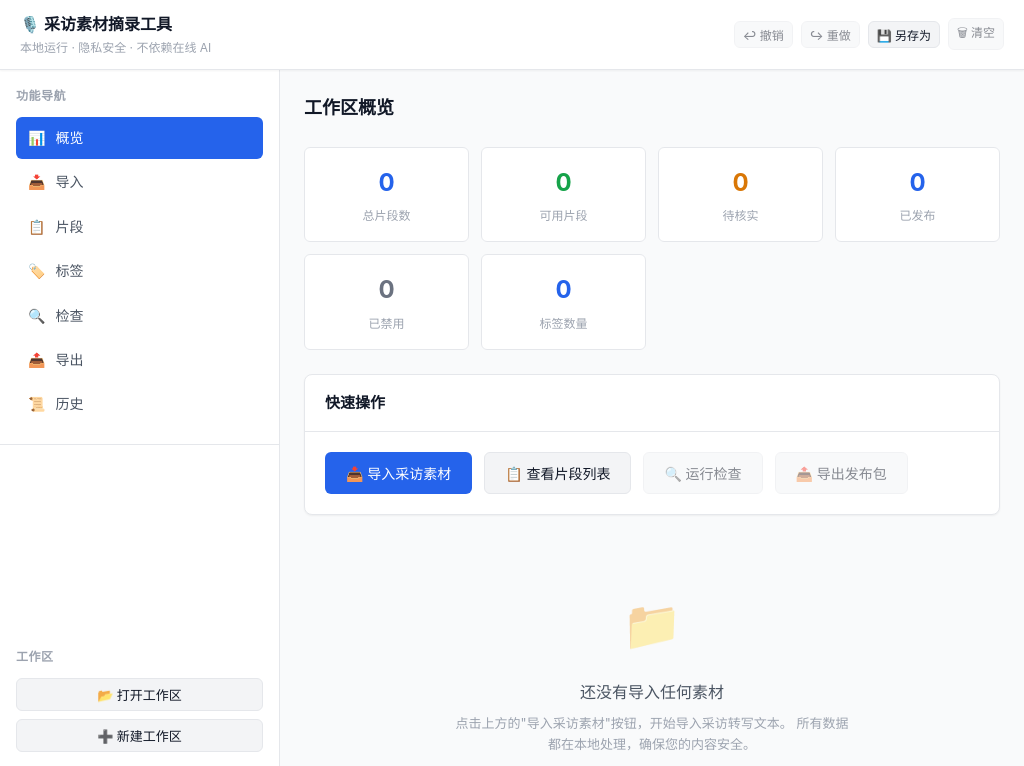
it: 未保存改动确认弹窗 - 组件渲染验证 › 5. 选择"先另存"且保存成功后继续加载
Click the text "导入".
click(70, 183)  # box [56,171,84,194]
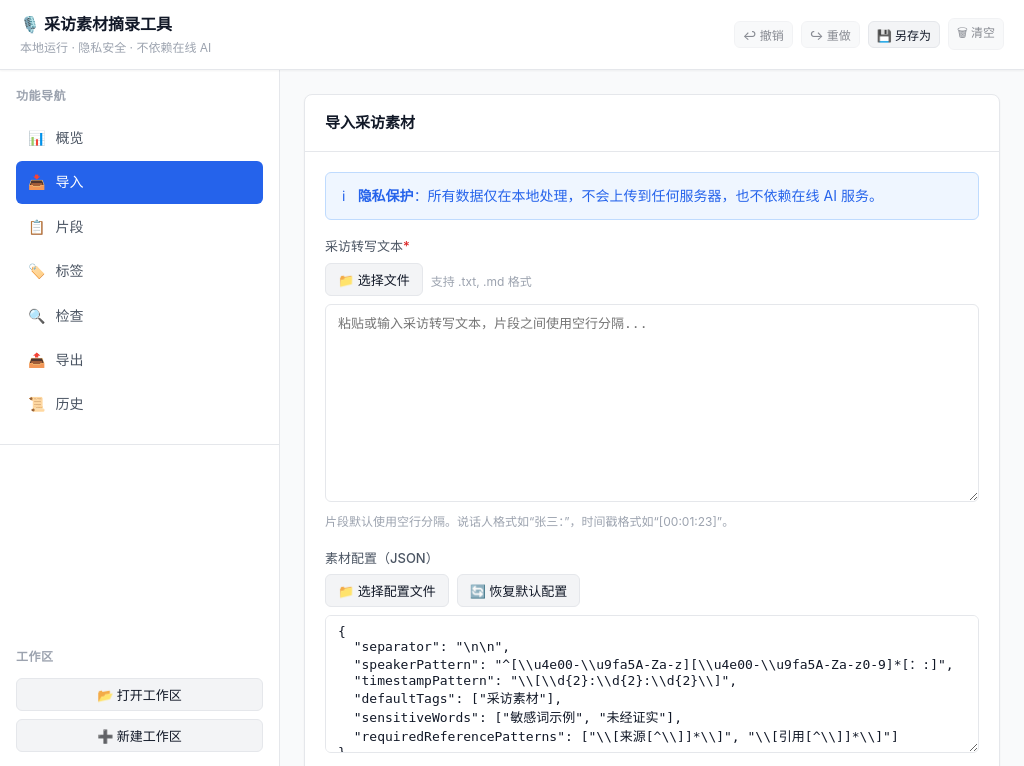
Type "张三：今天我们来谈谈这个项目。 李四：好的，这个项目非常重要。 王五：我认为我们需要更多时间。 " into the text box with placeholder "粘贴或输入采访转写文本，片段之间使用空行分隔...".
click(652, 403); type("张三：今天我们来谈谈这个项目。 李四：好的，这个项目非常重要。 王五：我认为我们需要更多时间。 ")  # box [325,304,979,502]
(page scrolled)
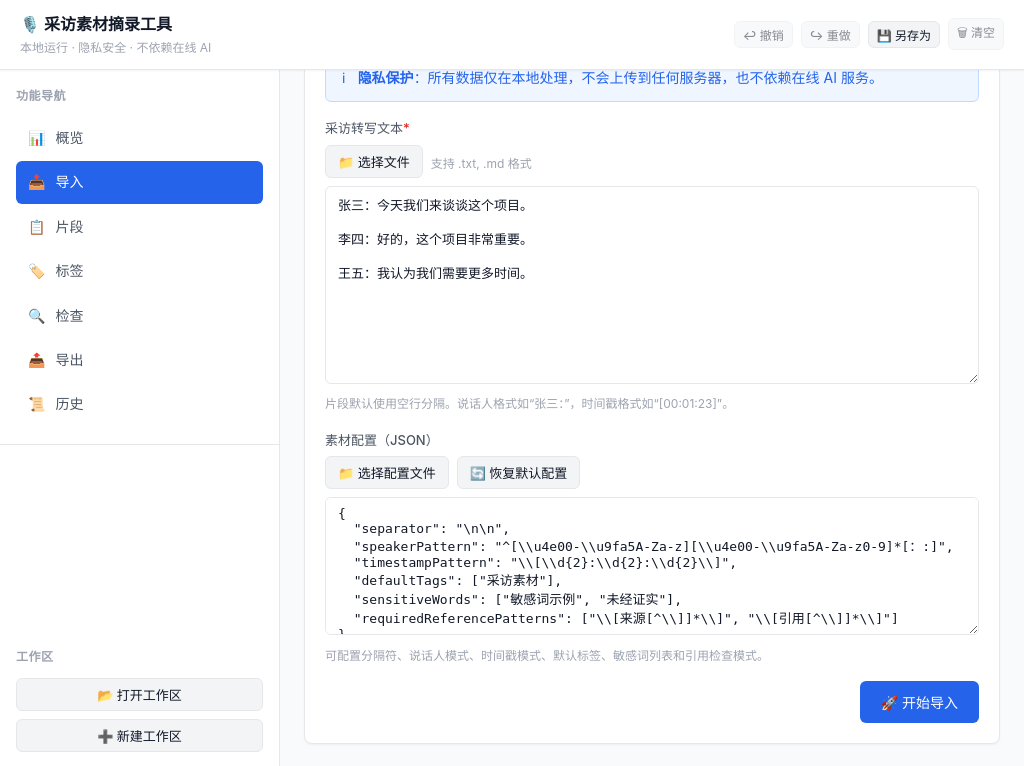
Click the button "🚀 开始导入".
click(919, 702)  # box [860,681,979,723]
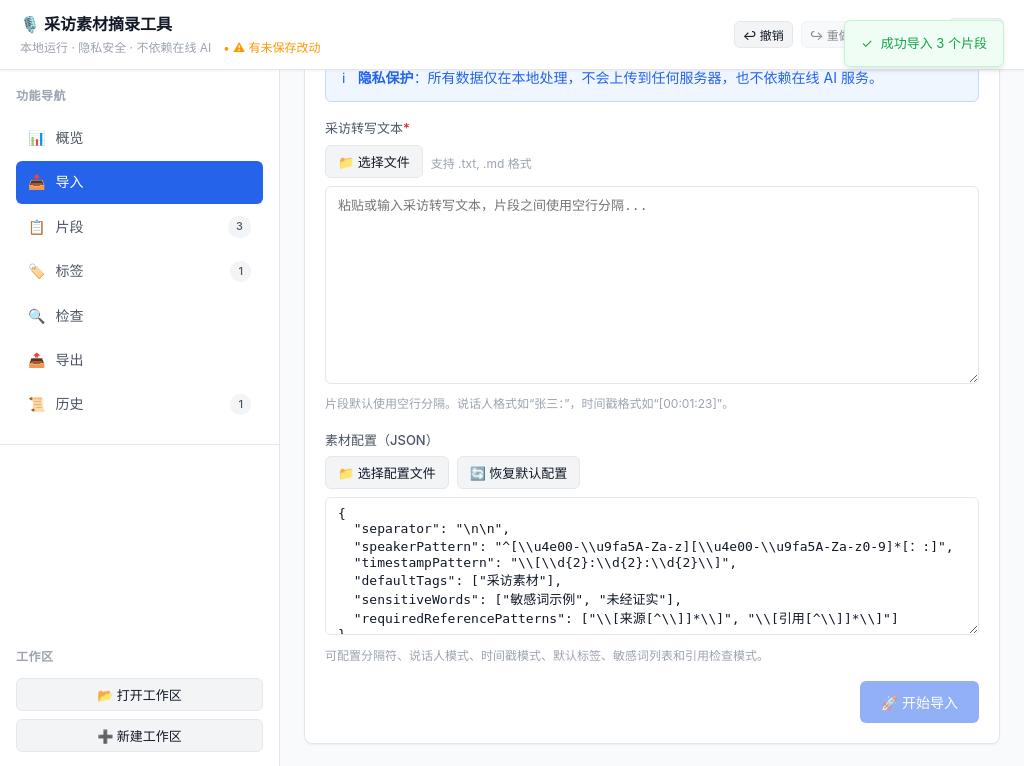
Check: the text "成功导入 3 个片段" is shown, box [881,33,987,54]
Check: the text "• ⚠ 有未保存改动" is shown, box [223,40,320,55]
Click the button "📂 打开工作区".
click(140, 694)  # box [16,678,263,711]
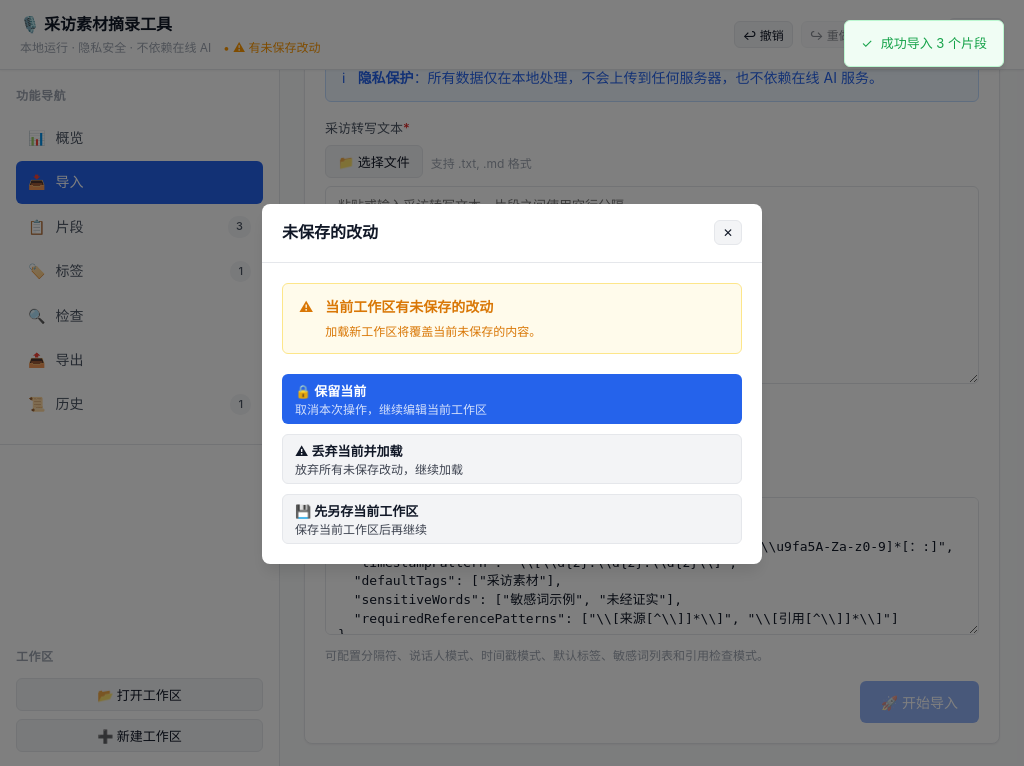
Check: the element with test id "unsaved-changes-modal" is shown, box [262,204,762,564]
Click the button with test id "unsaved-changes-saveas-btn".
click(357, 511)  # box [282,494,742,544]
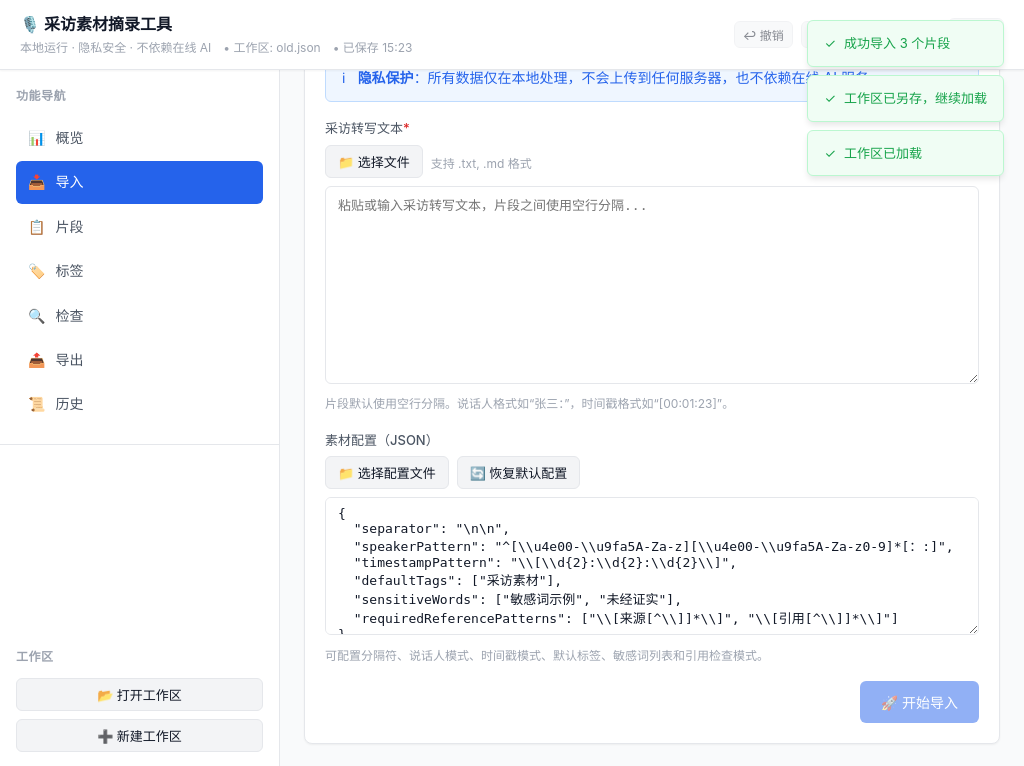
Check: the text "工作区已另存，继续加载" is shown, box [844,88,987,109]
Check: the text "工作区已加载" is shown, box [844,143,922,163]
